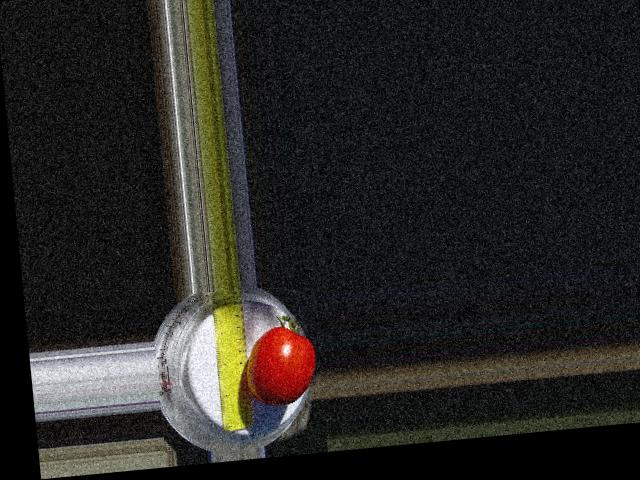tomato: (241, 322, 320, 408)
